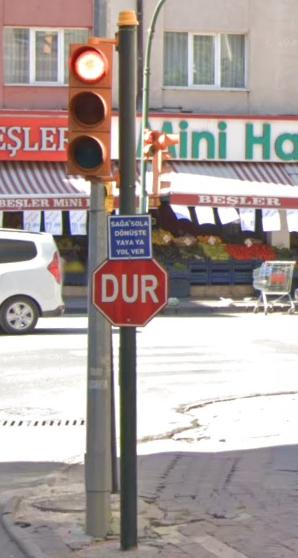redlight: (70, 41, 110, 183)
stop: (96, 262, 165, 323)
